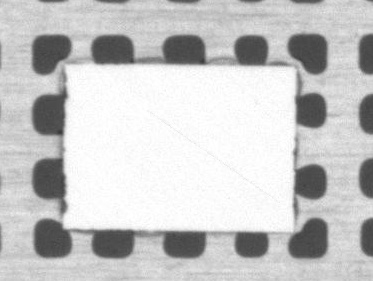DIE_CRACK: (195, 83, 370, 152)
